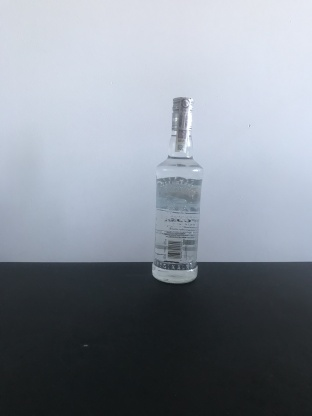nakretka: (169, 91, 195, 133)
